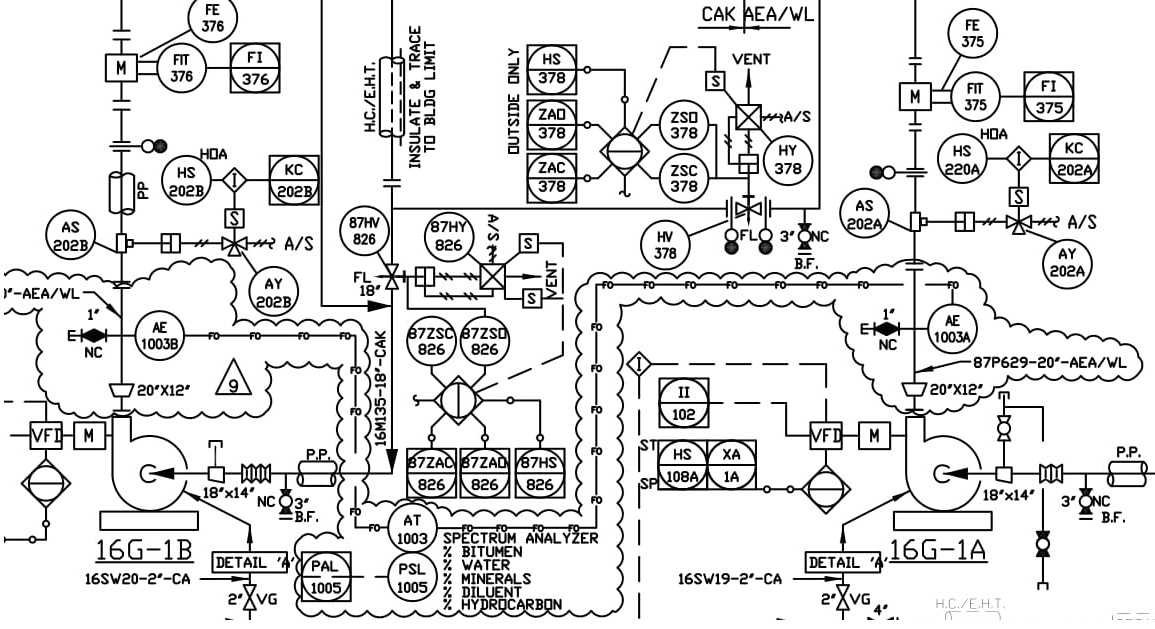Inline Instrument: (42, 206, 98, 262), (132, 309, 188, 365), (246, 261, 302, 317), (158, 153, 214, 209), (656, 94, 712, 150), (759, 132, 815, 188), (946, 7, 1002, 63), (935, 132, 991, 188), (949, 69, 1005, 125), (337, 202, 393, 258), (420, 210, 476, 266), (402, 312, 458, 368), (458, 312, 514, 368), (638, 215, 694, 271), (836, 186, 892, 242), (1038, 235, 1094, 291), (926, 301, 982, 357)
Panel Instrument: (226, 39, 284, 98), (265, 148, 323, 207), (524, 37, 582, 96), (521, 147, 579, 206), (1019, 68, 1077, 127), (1045, 130, 1103, 189), (657, 373, 715, 432), (703, 432, 761, 491), (298, 548, 356, 607), (514, 443, 572, 502), (402, 444, 460, 503)
